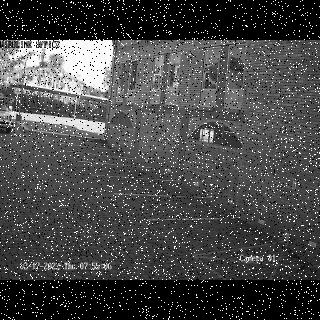car: (0, 97, 12, 133)
